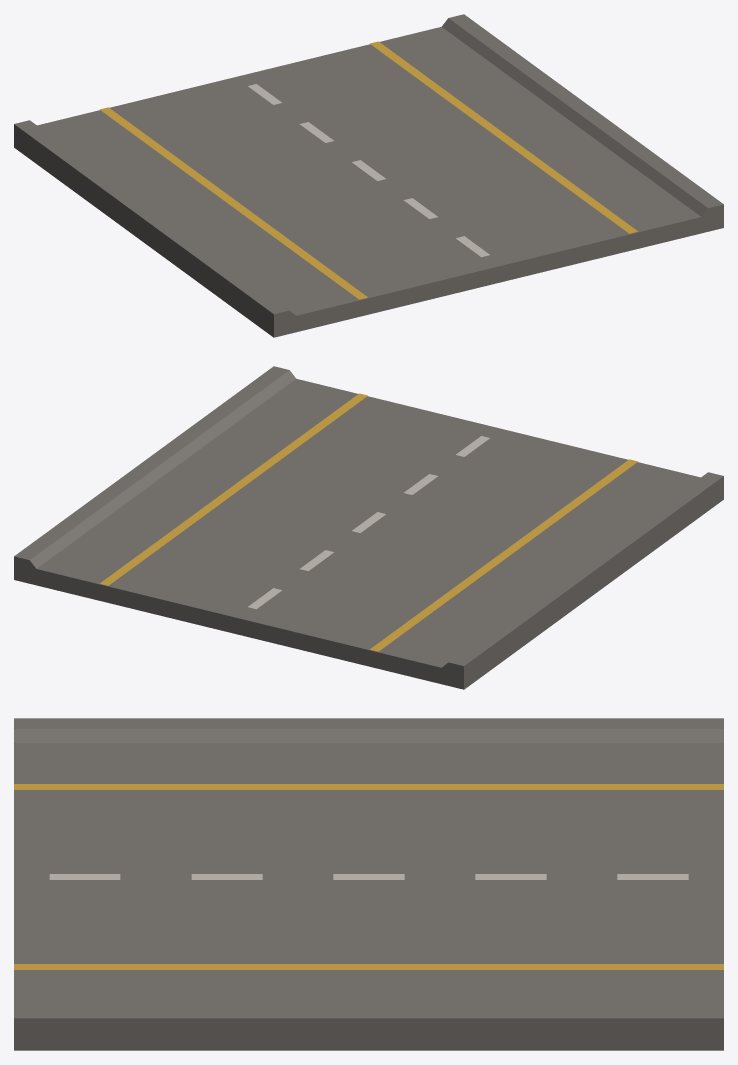
File: road_straight.gltf
3 renders of one model, top to bottom at view 1: azimuth 30°, elevation 25°; view 2: azimuth 150°, elevation 25°; view 3: azimuth 270°, elevation 25°, orthographic. The views are drawn at different scales.
Parts seen in each view (by area): view 1: road_straight; view 2: road_straight; view 3: road_straight.
Part boxes in pixels (<box>): road_straight: <box>14,14,723,337</box>; road_straight: <box>14,366,723,689</box>; road_straight: <box>14,718,723,1050</box>.
Size of the model in its own units: 6 by 0.3 by 6.
